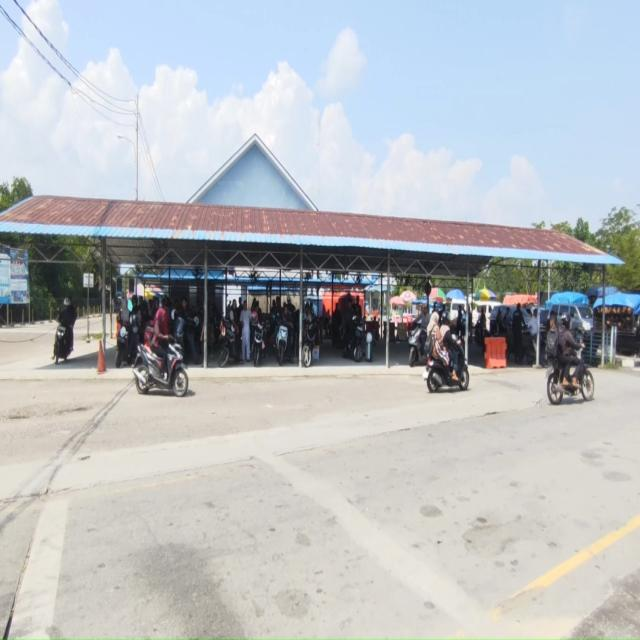Golongan II: (132, 338, 188, 397), (546, 354, 595, 406), (423, 345, 469, 393), (343, 314, 365, 362), (218, 320, 238, 368), (408, 320, 426, 368), (115, 320, 132, 369), (54, 324, 73, 365), (302, 320, 318, 367), (252, 321, 267, 367), (276, 324, 289, 366)
